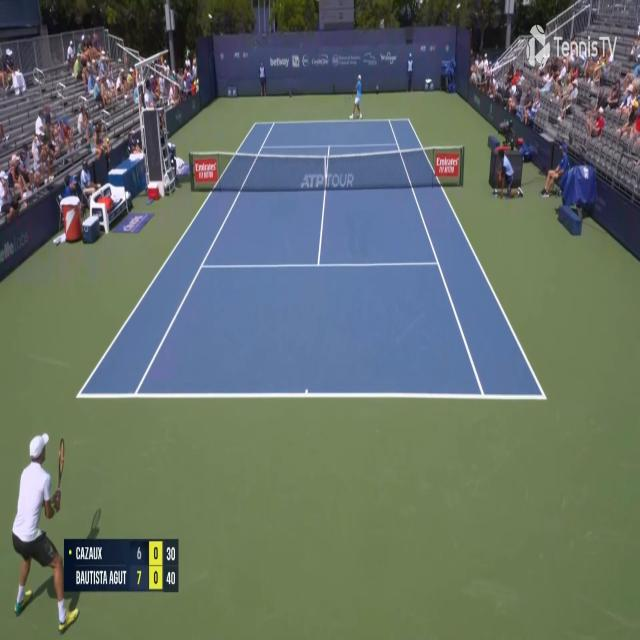tennis-player: (8, 425, 80, 635), (348, 74, 365, 122)
